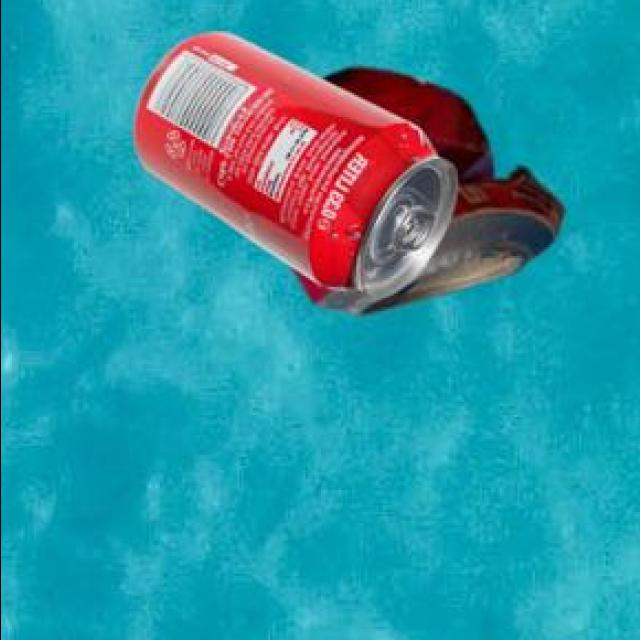logam: (129, 30, 454, 295), (290, 65, 559, 310)
